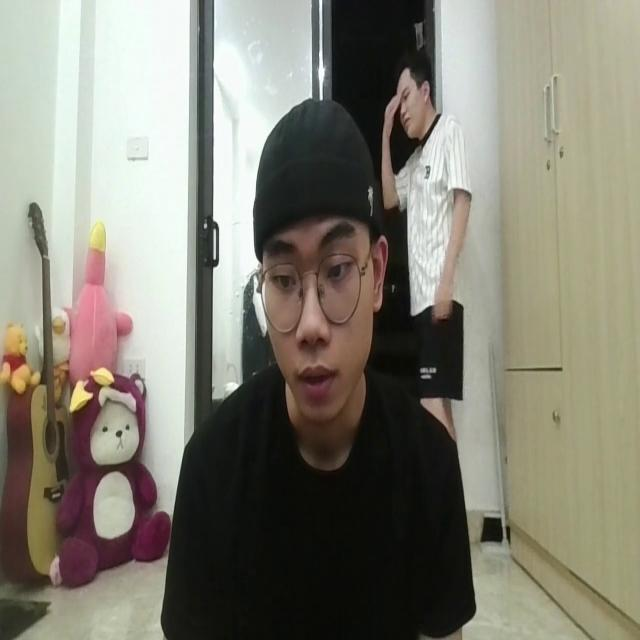extra_person: (384, 41, 470, 409)
student: (179, 93, 471, 640)
